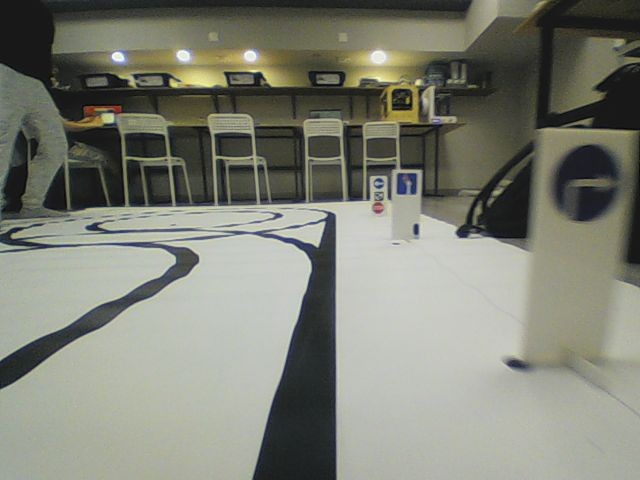Right: (551, 141, 619, 224)
priority_movement: (396, 172, 418, 197)
